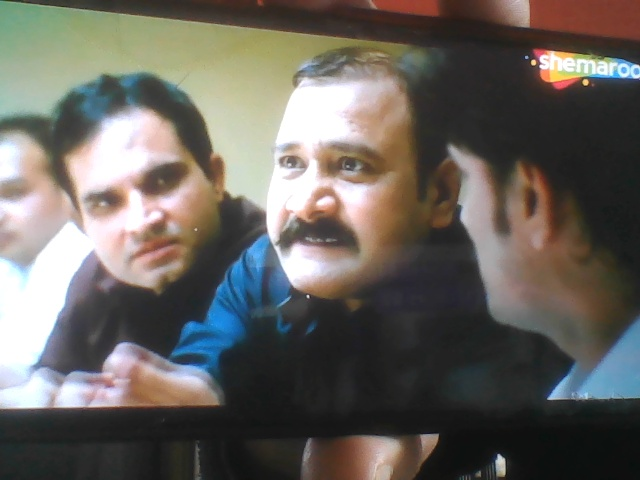fake: (255, 30, 447, 302), (67, 72, 227, 299)
